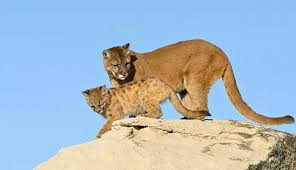Mountain Lion: (81, 85, 199, 118), (101, 34, 166, 82)
